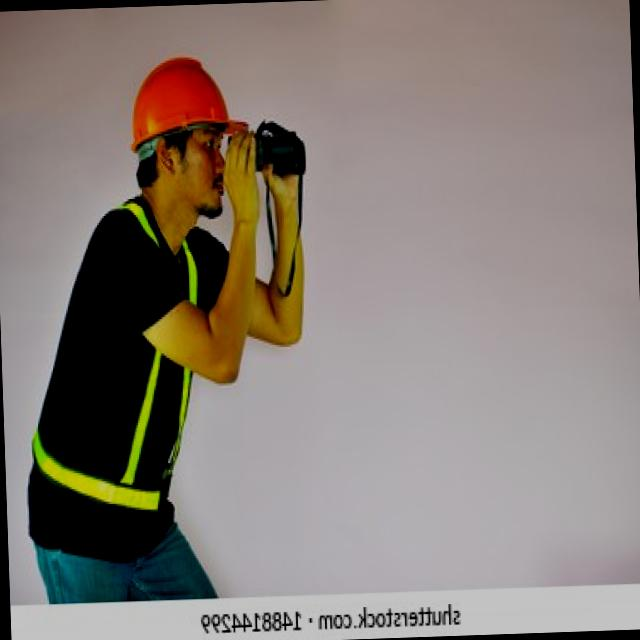helmet: (118, 43, 245, 167)
no-goggles: (146, 123, 244, 174)
vest: (17, 189, 216, 512)
